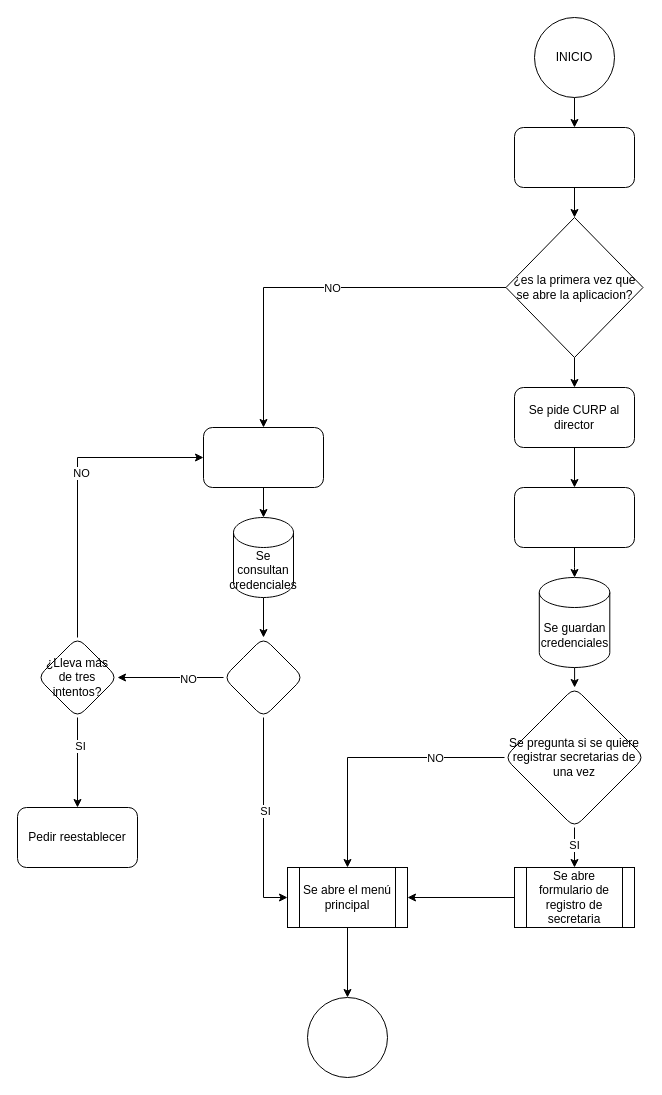
Image size: 662x1095. Some labels were removed from this diagram. Each missing label, with the centre of its shape:
"Director crea contraseña" belongs at point 574,517.
"FIN" belongs at point 347,1037.
"se abre la aplicacion" belongs at point 574,157.
"Se piden datos de inicio de sesion" belongs at point 263,457.
"¿Son correctos?" belongs at point 263,677.
